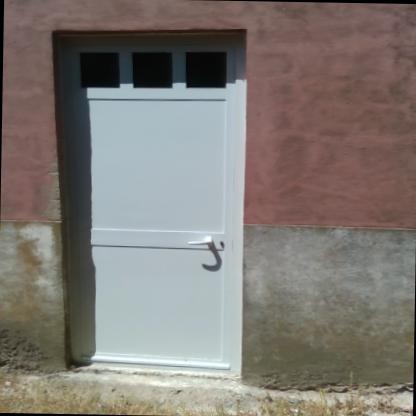closed: (34, 20, 261, 388)
